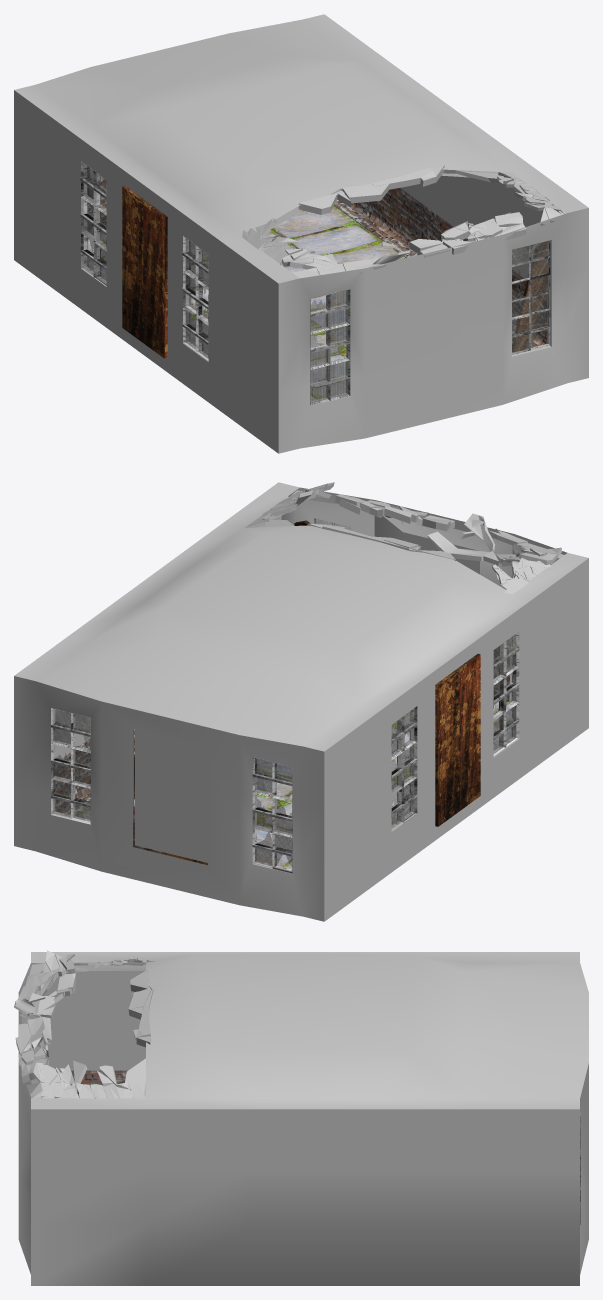
The model's file is house_notexture.fbx.
The picture shows the model from 3 angles, top to bottom: view 1: azimuth 30°, elevation 25°; view 2: azimuth 150°, elevation 25°; view 3: azimuth 270°, elevation 25°; orthographic projection. The views are drawn at different scales.
Parts seen in each view (by area): view 1: polySurface74, polySurface73, polySurface17, polySurface14, polySurface77, polySurface83, polySurface20, polySurface21, pCube28; view 2: polySurface74, polySurface76, polySurface73, polySurface18, polySurface19, polySurface83, polySurface77, polySurface20, polySurface21; view 3: polySurface74, polySurface73.
Part boxes in pixels (x1,y1,x2,y2): polySurface74: (14,14,588,453); polySurface73: (242,165,566,278); polySurface17: (310,289,350,405); polySurface14: (512,240,550,354); polySurface77: (143,201,167,358); polySurface83: (122,185,145,342); polySurface20: (80,161,106,286); polySurface21: (182,236,208,361); pCube28: (512,241,547,351); polySurface74: (14,482,588,921); polySurface76: (135,729,207,862); polySurface73: (244,482,563,594); polySurface18: (51,708,90,824); polySurface19: (252,757,292,873); polySurface83: (435,669,459,826); polySurface77: (457,653,480,810); polySurface20: (391,706,417,830); polySurface21: (493,631,519,757); polySurface74: (18,952,588,1285); polySurface73: (14,950,154,1098).
Size of the model in its own units: 2119 by 1261 by 3246.
